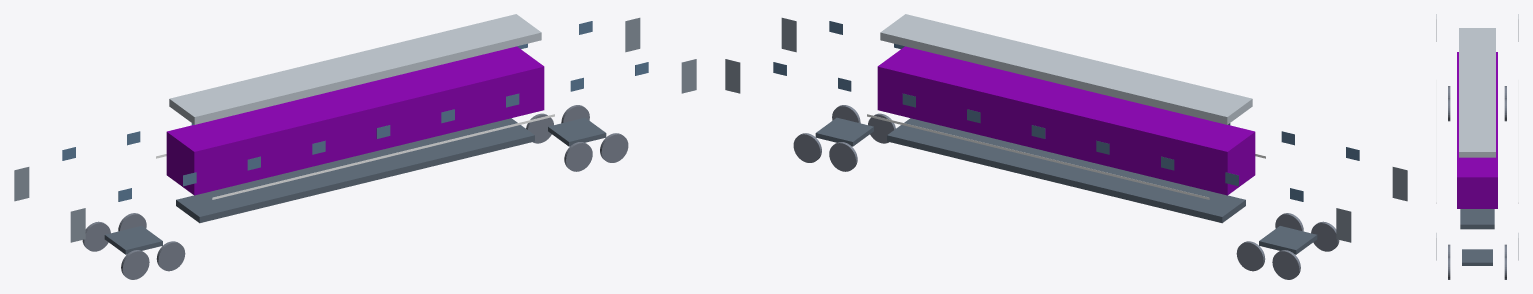
File: LHB_AC2Tier.glb
3 views of the same model, side by side, from view 1: azimuth 30°, elevation 25°; view 2: azimuth 150°, elevation 25°; view 3: azimuth 270°, elevation 25° (orthographic). The views are drawn at different scales.
Parts seen in each view (by area): view 1: LHB_AC2Tier; view 2: LHB_AC2Tier; view 3: LHB_AC2Tier.
Part boxes in pixels (left/top/right/bottom): LHB_AC2Tier: left=14, top=14, right=696, bottom=279; LHB_AC2Tier: left=725, top=14, right=1407, bottom=279; LHB_AC2Tier: left=1436, top=14, right=1518, bottom=279.
Size of the model in its own units: 21.04 by 4.53 by 3.29.
